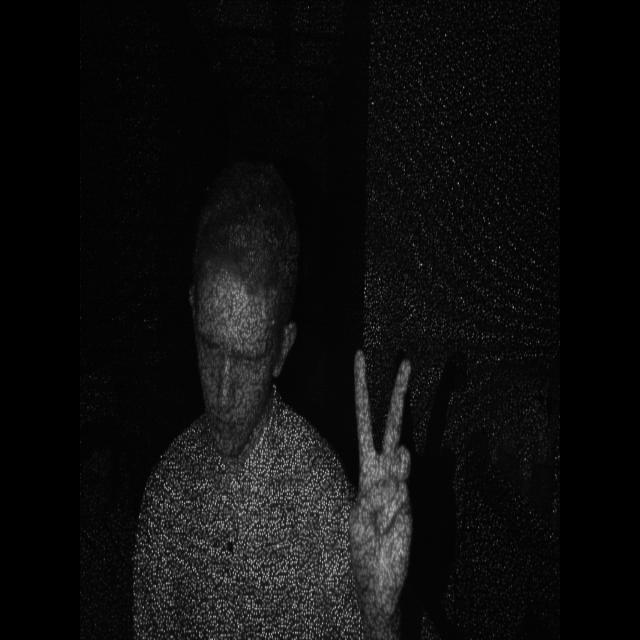V: (334, 328, 432, 602)
